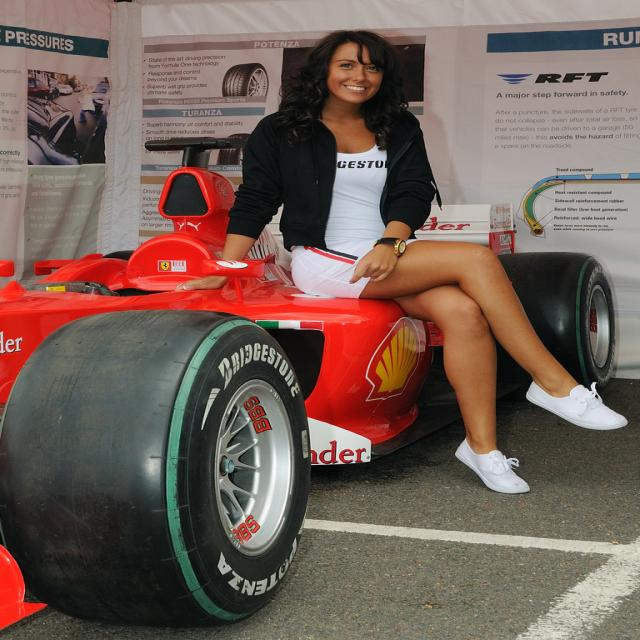car: (0, 163, 617, 639)
